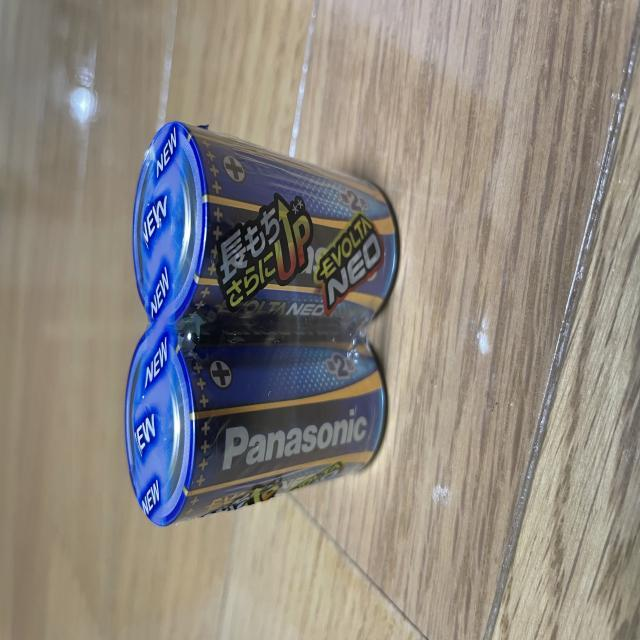hazardous waste: (124, 110, 412, 334), (122, 334, 388, 532)
